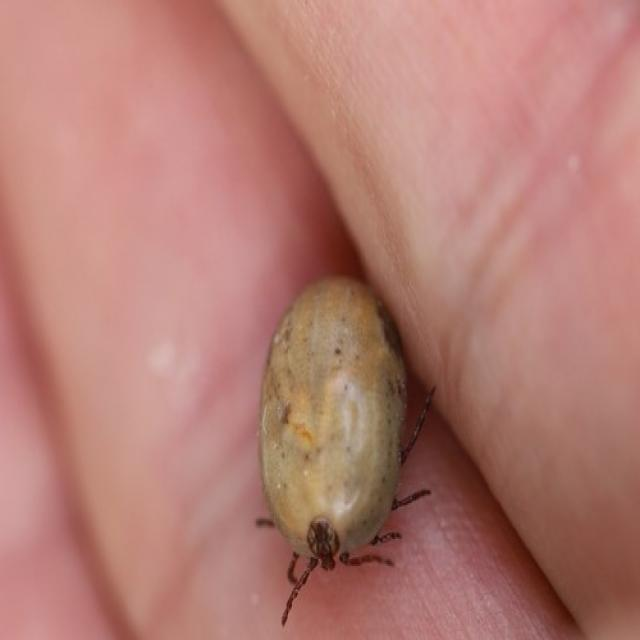Dermacentor Reticulatus-F-Fed: (255, 274, 436, 626)
